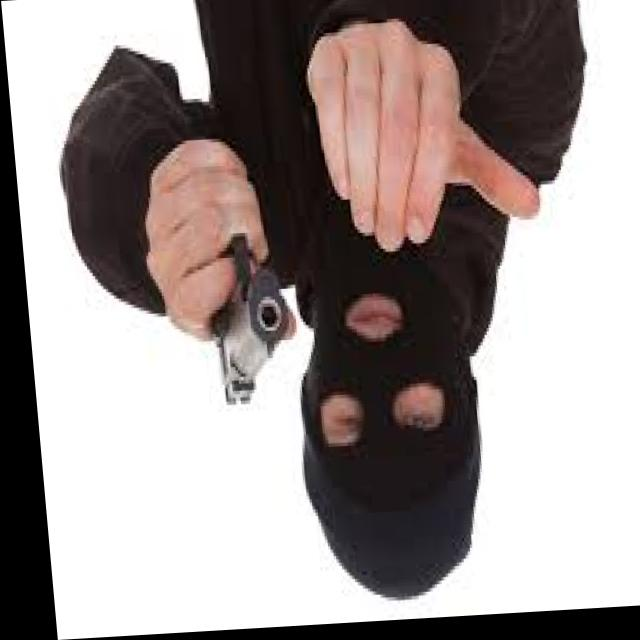handgun: (187, 233, 284, 424)
